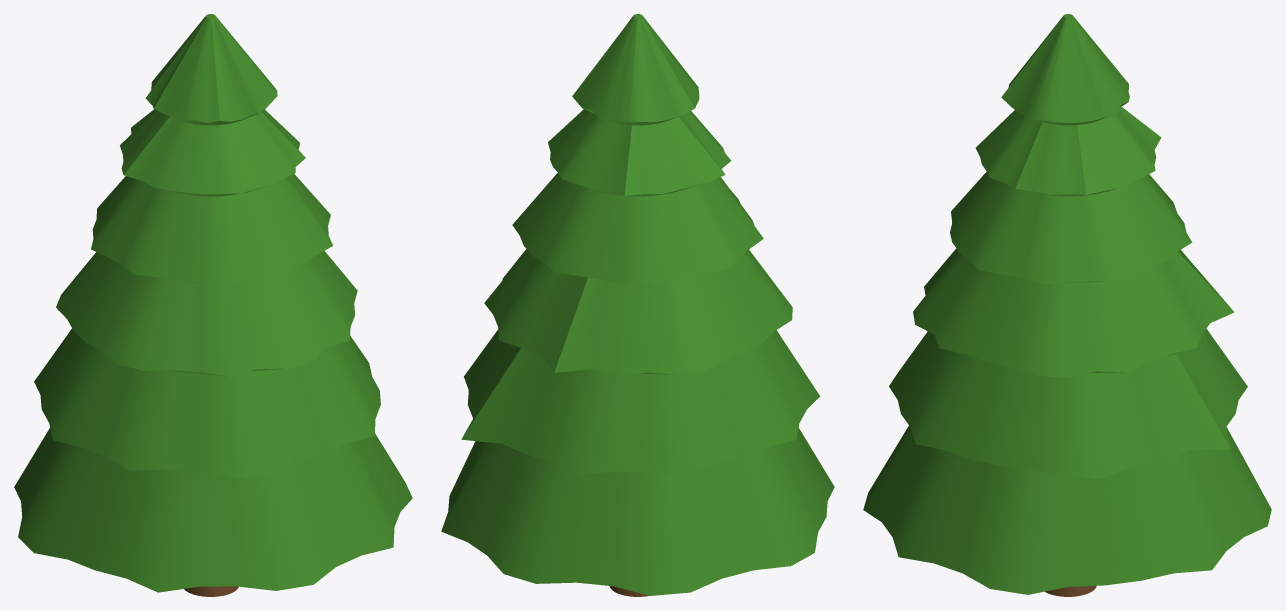
Rendered from pineTree.fbx.
3 renders of one model, left to right at view 1: azimuth 30°, elevation 25°; view 2: azimuth 150°, elevation 25°; view 3: azimuth 270°, elevation 25°, orthographic.
Visible parts, largest first — view 1: Pine Tree; view 2: Pine Tree; view 3: Pine Tree.
Part boxes in pixels (left/top/right/bottom): Pine Tree: left=14, top=14, right=412, bottom=596; Pine Tree: left=441, top=14, right=834, bottom=596; Pine Tree: left=863, top=14, right=1271, bottom=596.
Size of the model in its own units: 225 by 227 by 348.
